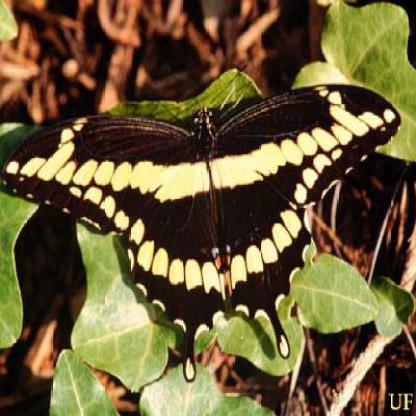Giant Swallowtail: (1, 50, 416, 386)
